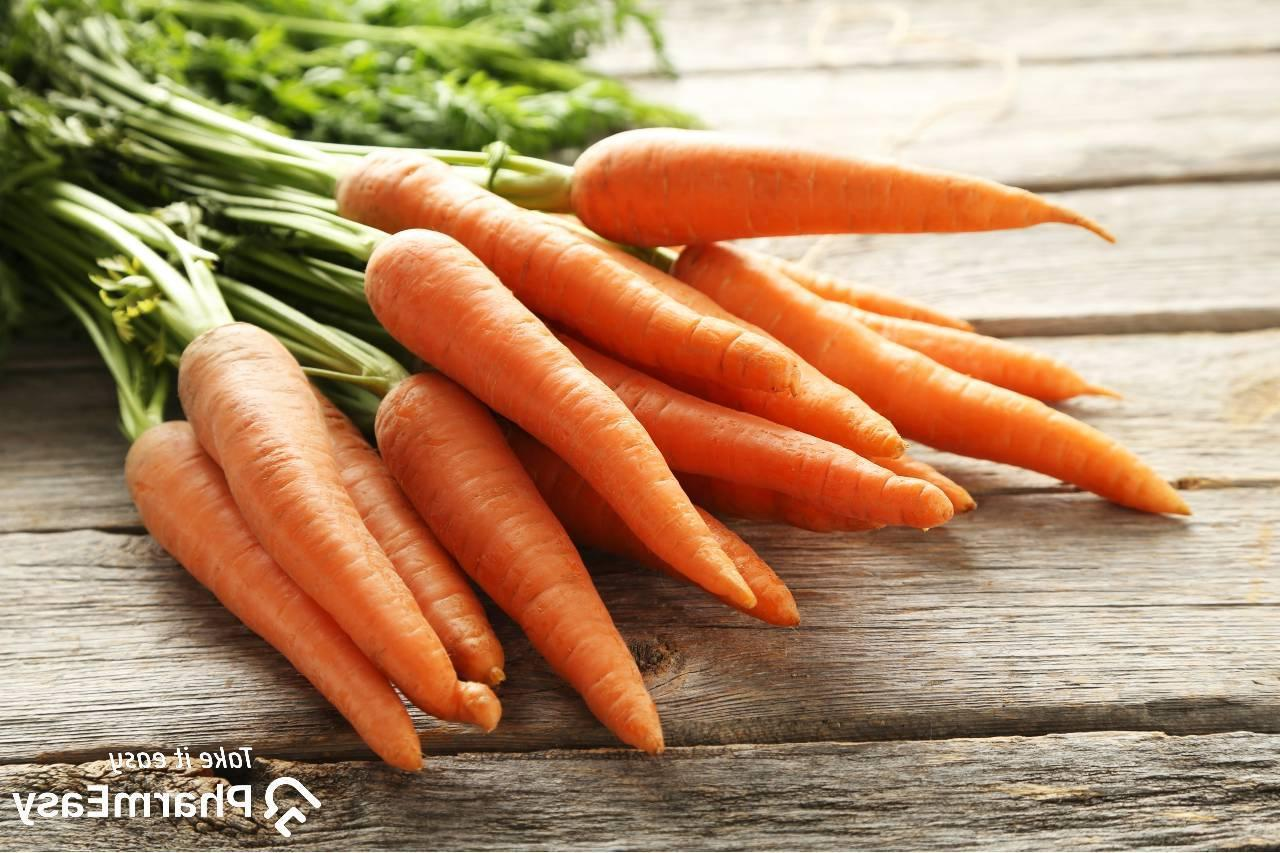carrot: (353, 96, 1188, 561), (214, 140, 916, 667), (130, 316, 579, 759)
